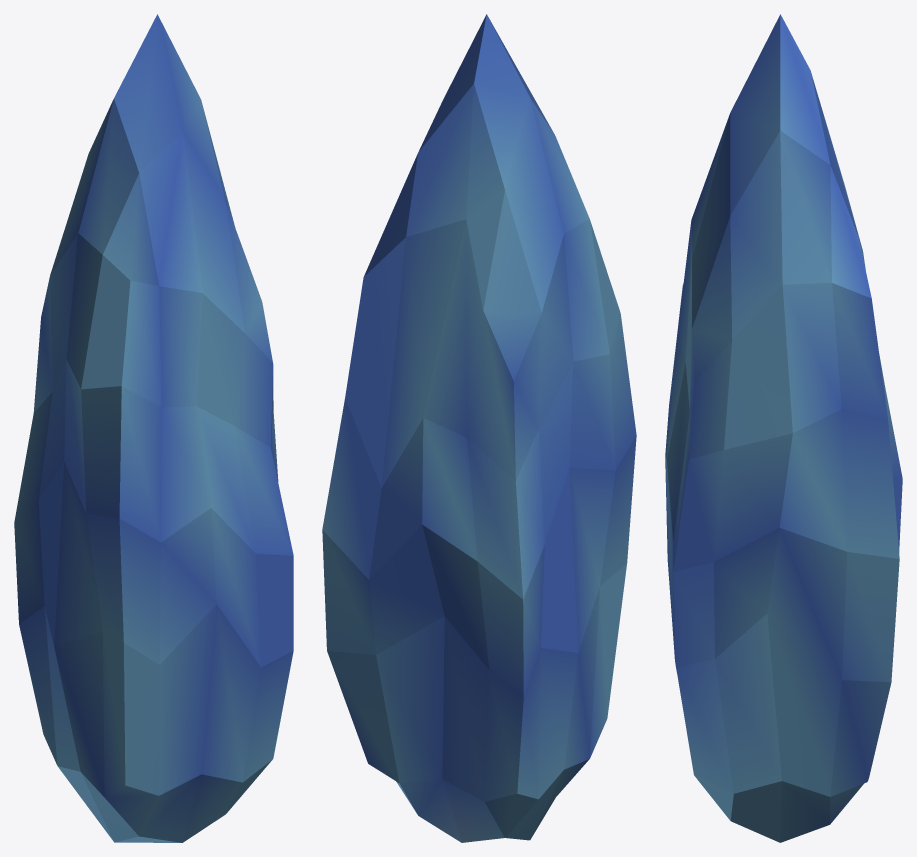
File: Cristal.fbx
3 renders of one model, left to right at view 1: azimuth 30°, elevation 25°; view 2: azimuth 150°, elevation 25°; view 3: azimuth 270°, elevation 25°, orthographic.
Visible parts, largest first — view 1: Cube; view 2: Cube; view 3: Cube.
Part boxes in pixels (left/top/right/bottom): Cube: left=14, top=14, right=293, bottom=842; Cube: left=322, top=14, right=636, bottom=842; Cube: left=665, top=14, right=902, bottom=842.
Bounding box in the file's own units: 115 × 434 × 115.
